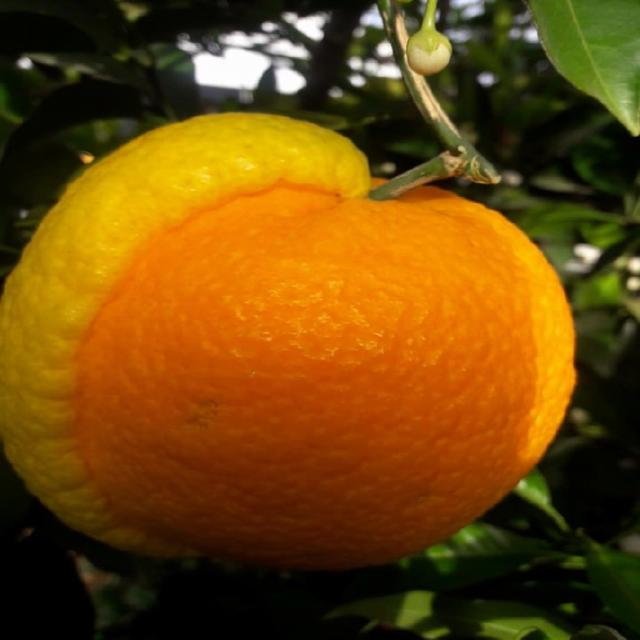orange: (15, 119, 585, 583)
